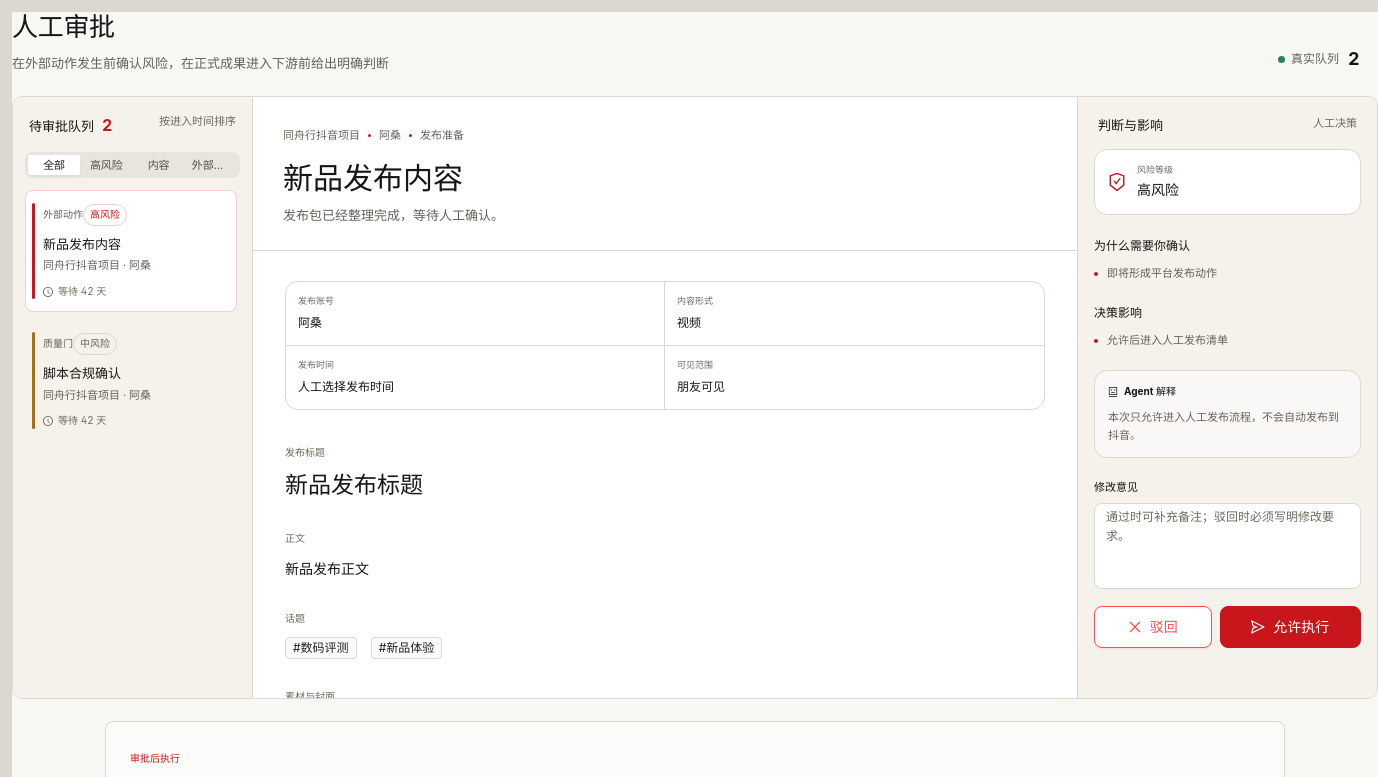
Scenario: Approvals › requires a modification note for rejection and advances after approval
The width and height of the screenshot is (1378, 777).
Click the button "驳回" at (1153, 627), box [1094,606,1212,648]
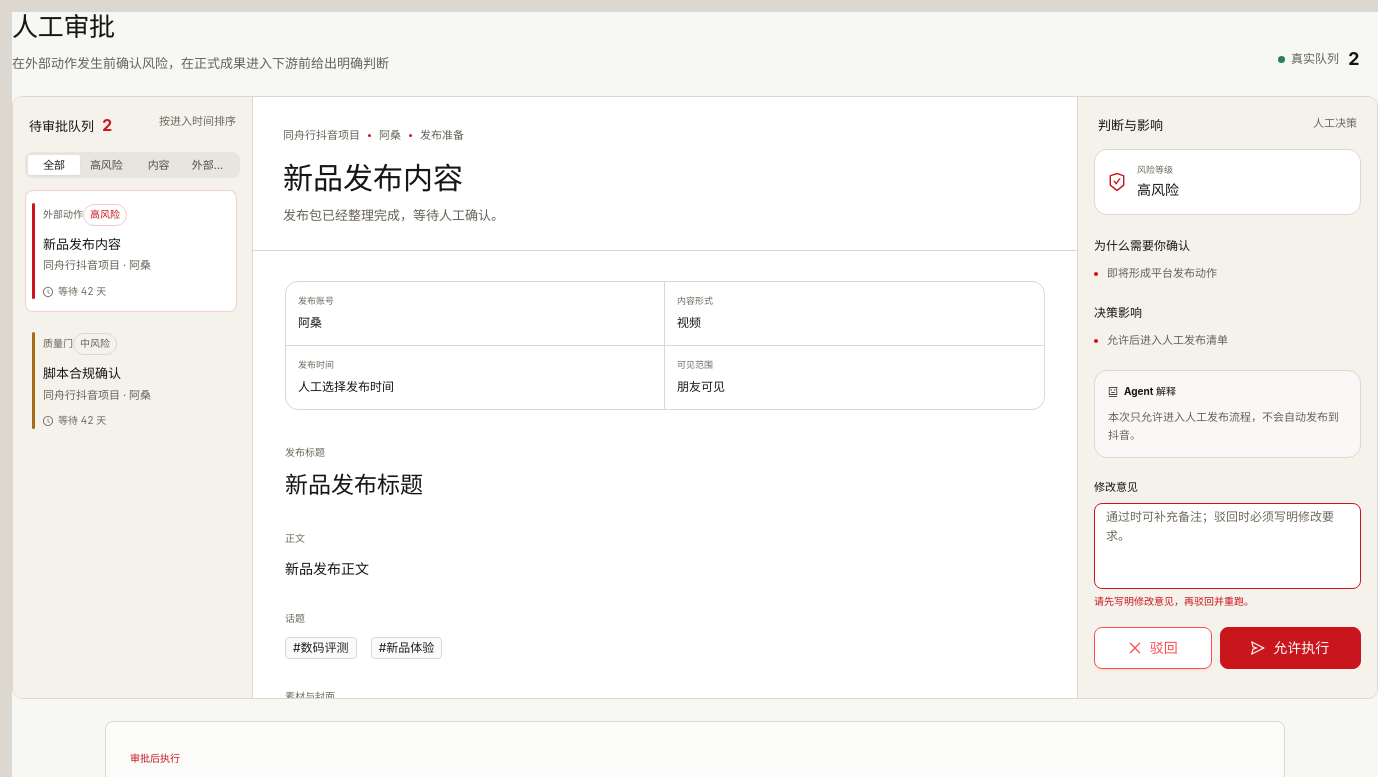
Expected: the text "请先写明修改意见，再驳回并重跑。" is shown, [1094,595,1254,607]
Type "标题需要更克制，并补充品牌风险说明。" into the text box labelled "修改意见" at (1228, 546), box [1094,503,1361,589]
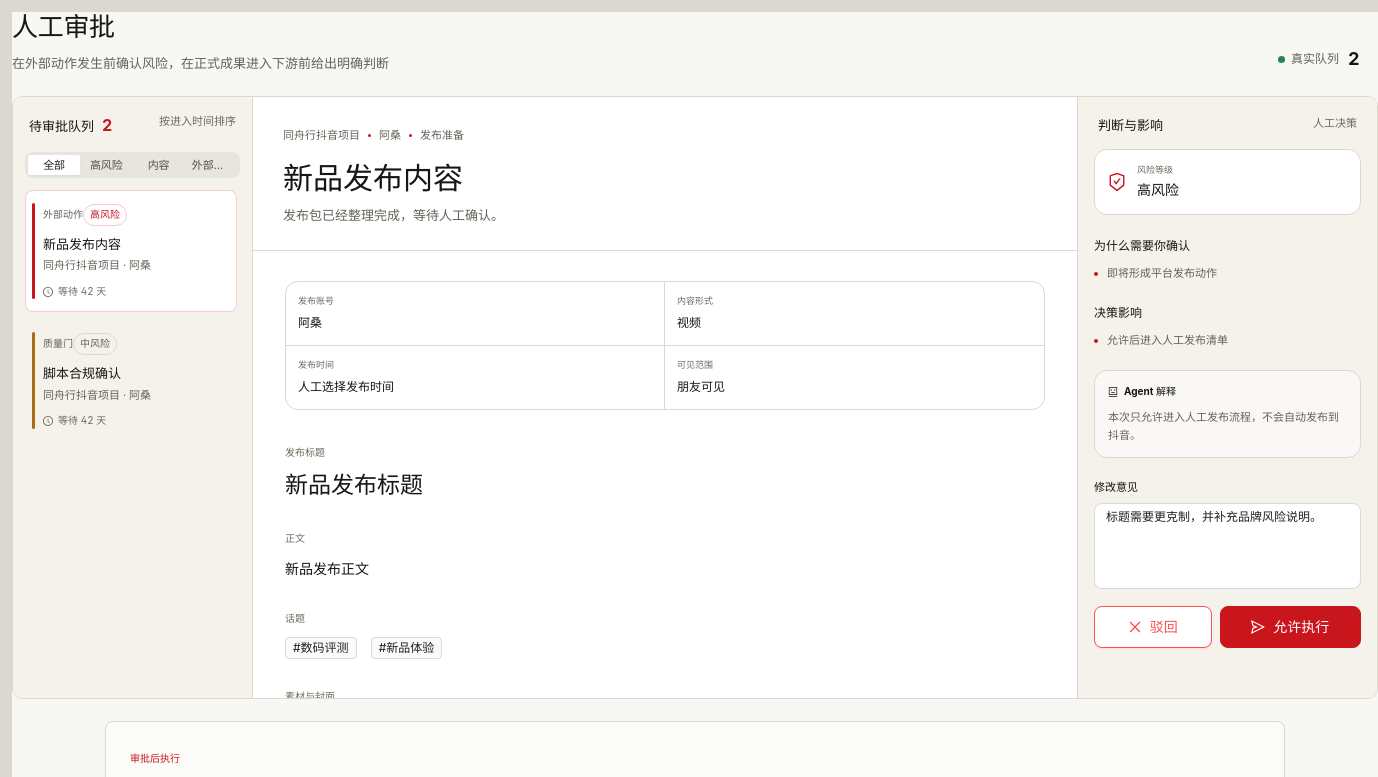
Click the button "允许执行" at (1290, 627), box [1220,606,1361,648]
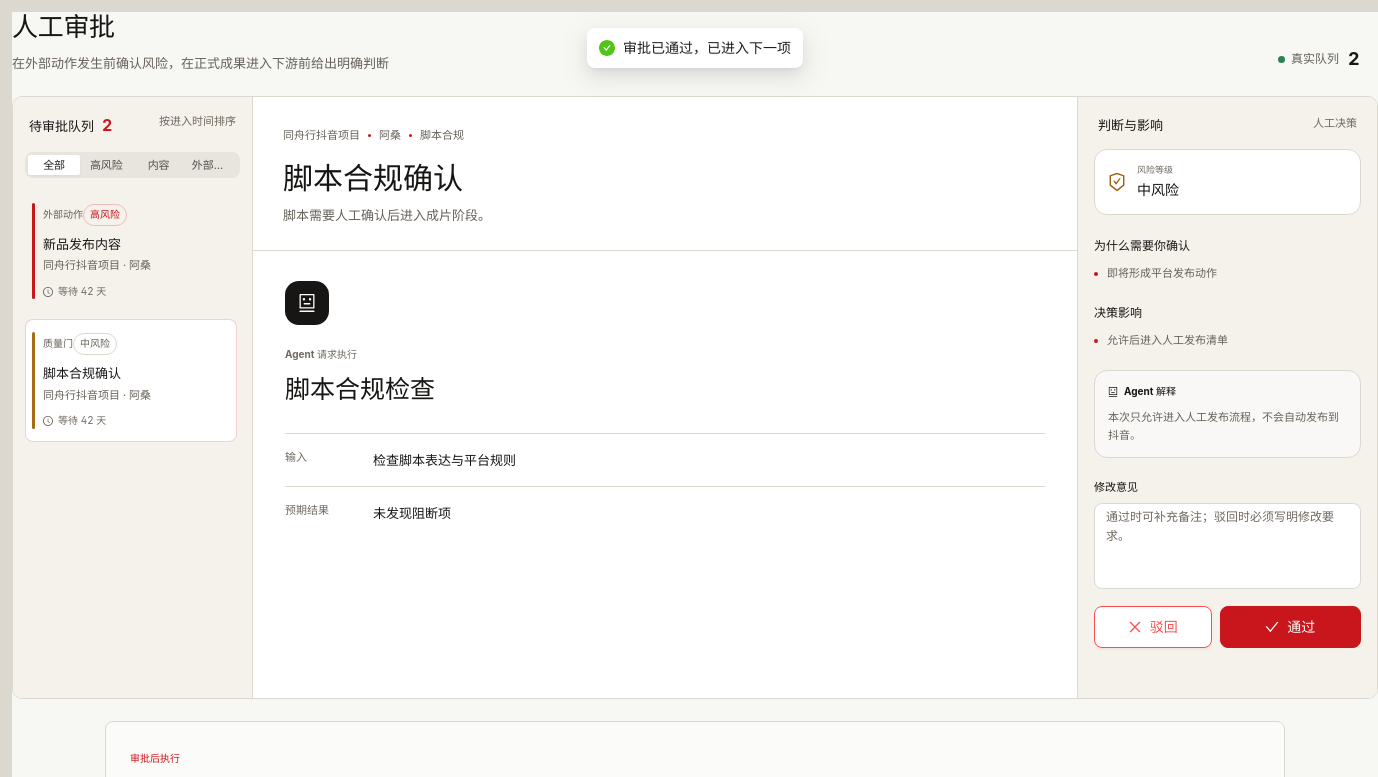
Expected: the heading "脚本合规确认" is shown, [283,160,463,196]
